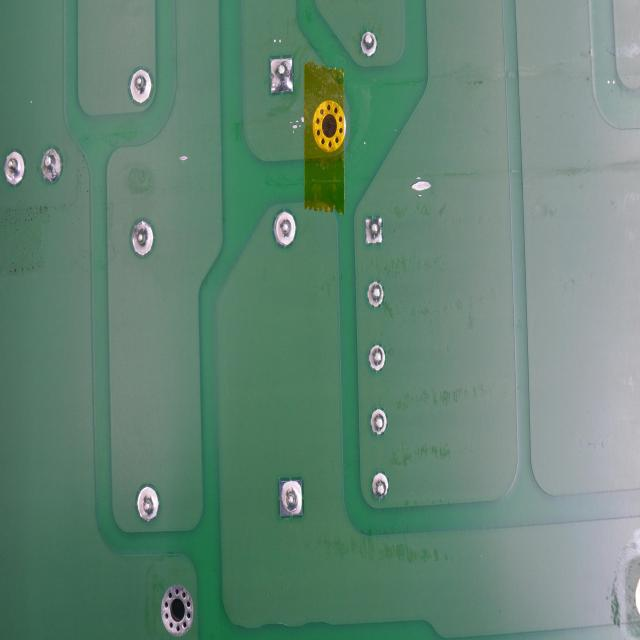spillover: (409, 176, 431, 198), (177, 152, 189, 164), (292, 120, 303, 131)
